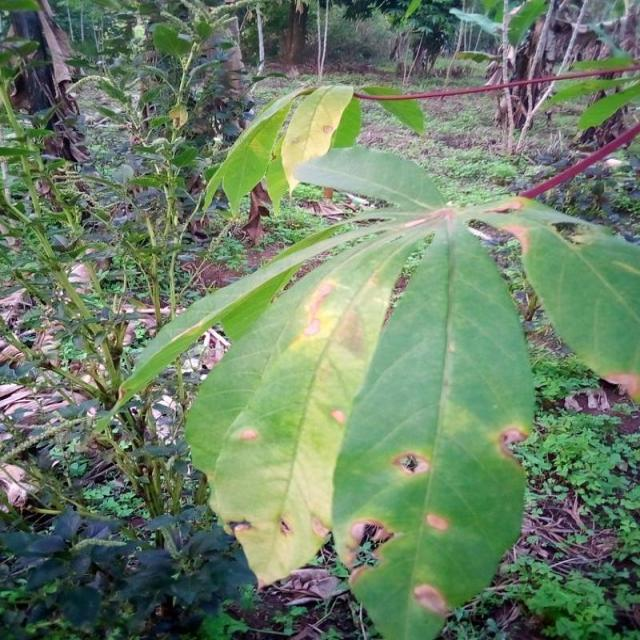cassava leaf: (184, 210, 438, 589), (330, 213, 535, 638)
